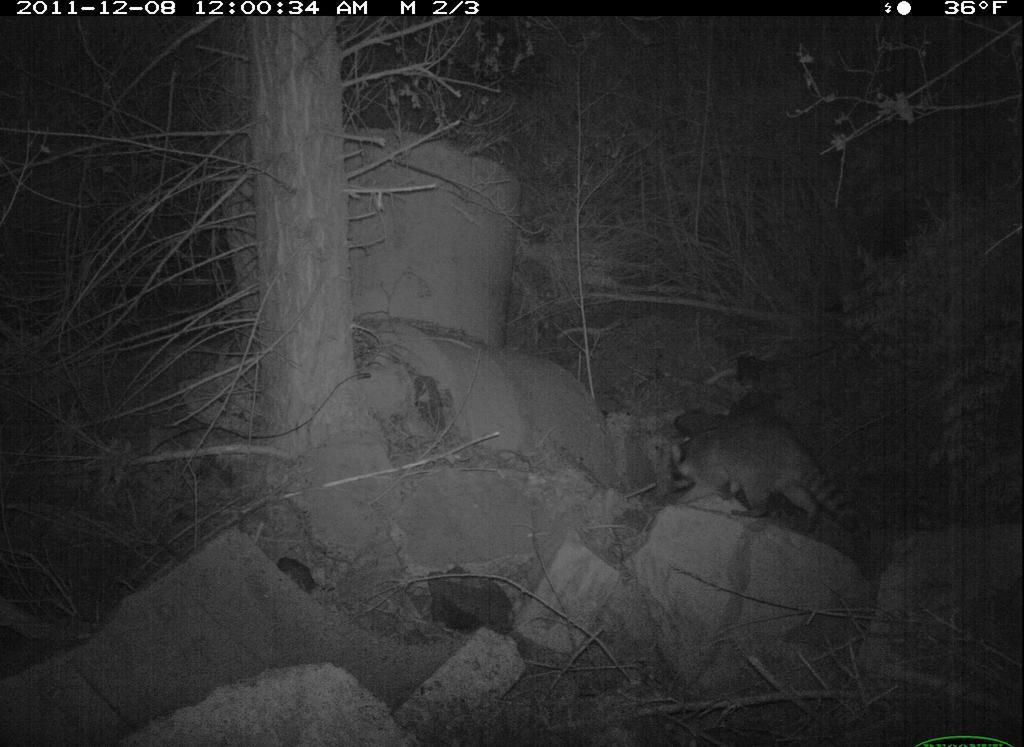raccoon: (644, 385, 886, 561)
